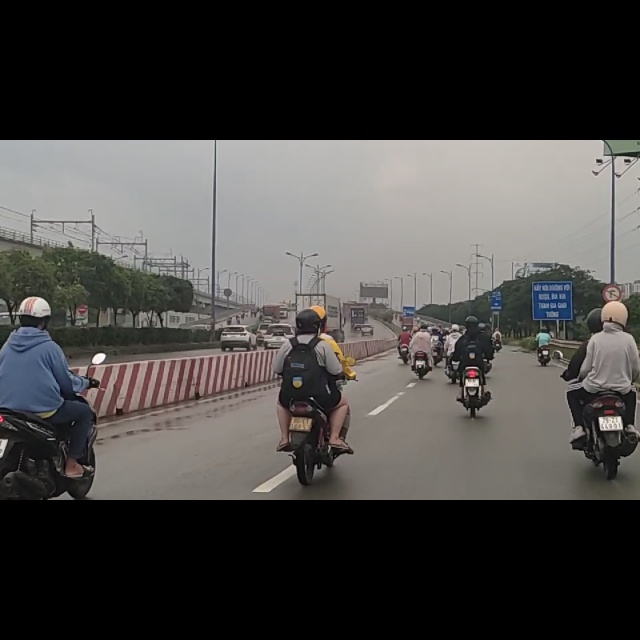bien_chi_dan: (604, 257, 619, 288)
